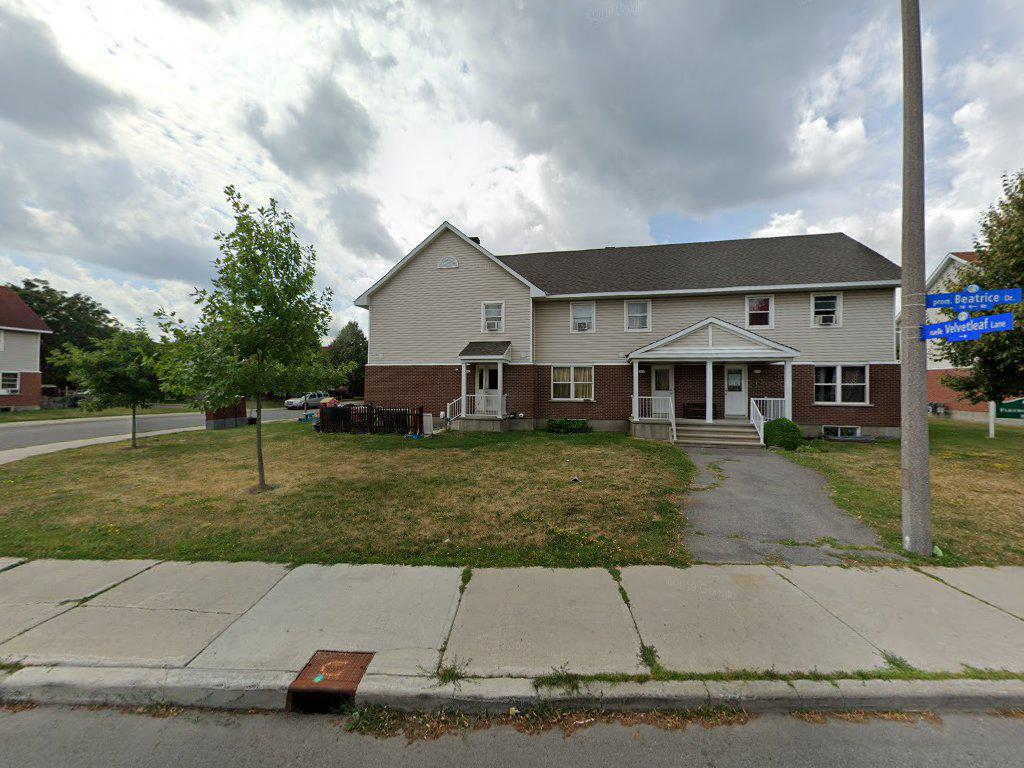trunk: (252, 400, 273, 491)
